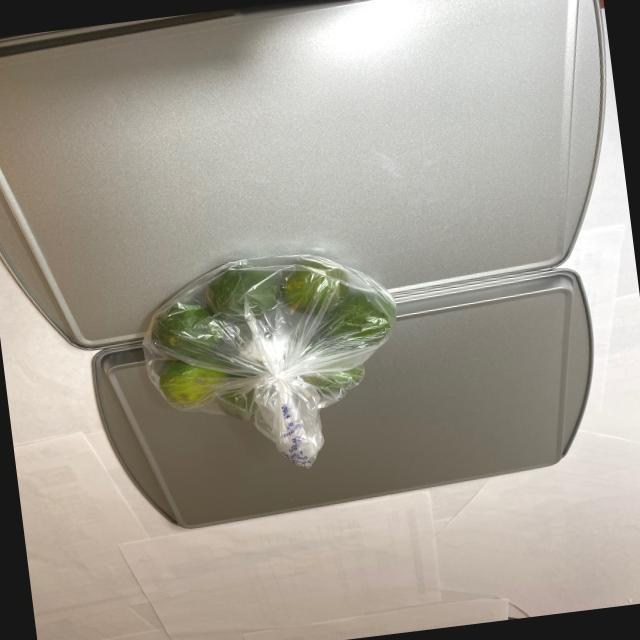lemon: (142, 242, 406, 429)
